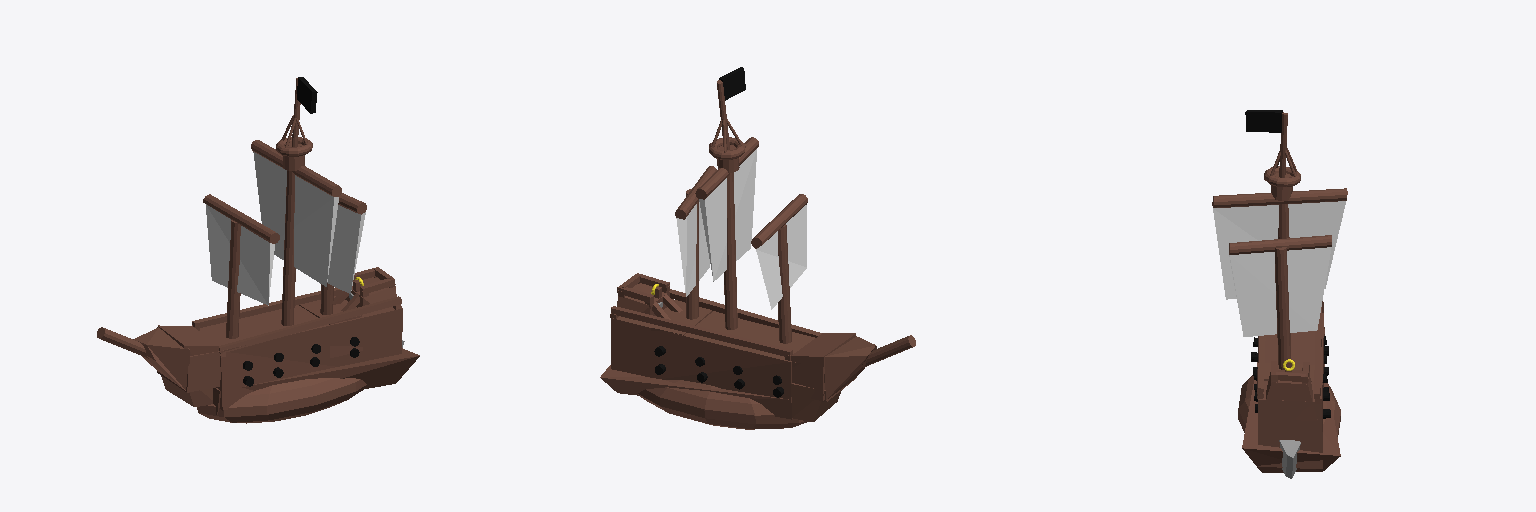
The model's file is pirateShip_zeroed.obj.
3 views of the same model, side by side, from view 1: azimuth 30°, elevation 25°; view 2: azimuth 150°, elevation 25°; view 3: azimuth 270°, elevation 25° (orthographic).
Parts seen in each view (by area): view 1: pirateShip_zeroed; view 2: pirateShip_zeroed; view 3: pirateShip_zeroed.
Boxes of the visible parts, x1=… form: pirateShip_zeroed: x1=97, y1=77, x2=419, y2=423; pirateShip_zeroed: x1=600, y1=67, x2=915, y2=429; pirateShip_zeroed: x1=1212, y1=110, x2=1347, y2=478.
Bounding box in the file's own units: 1.11 × 1.16 × 0.4253.